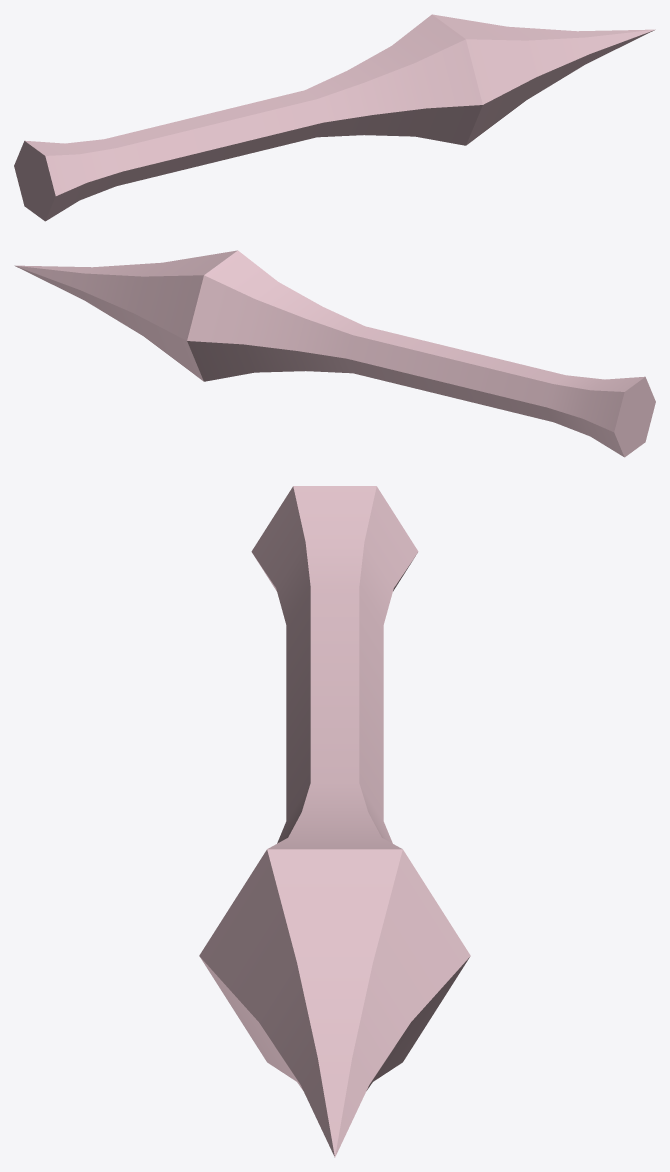
The model's file is Spear.fbx.
3 renders of one model, top to bottom at view 1: azimuth 30°, elevation 25°; view 2: azimuth 150°, elevation 25°; view 3: azimuth 270°, elevation 25°, orthographic. The views are drawn at different scales.
Visible parts, largest first — view 1: Hook; view 2: Hook; view 3: Hook.
Boxes of the visible parts, <box> form: Hook: <box>14,14,655,221</box>; Hook: <box>14,250,655,457</box>; Hook: <box>199,486,470,1157</box>.
Size of the model in its own units: 21.3 by 18.45 by 112.
